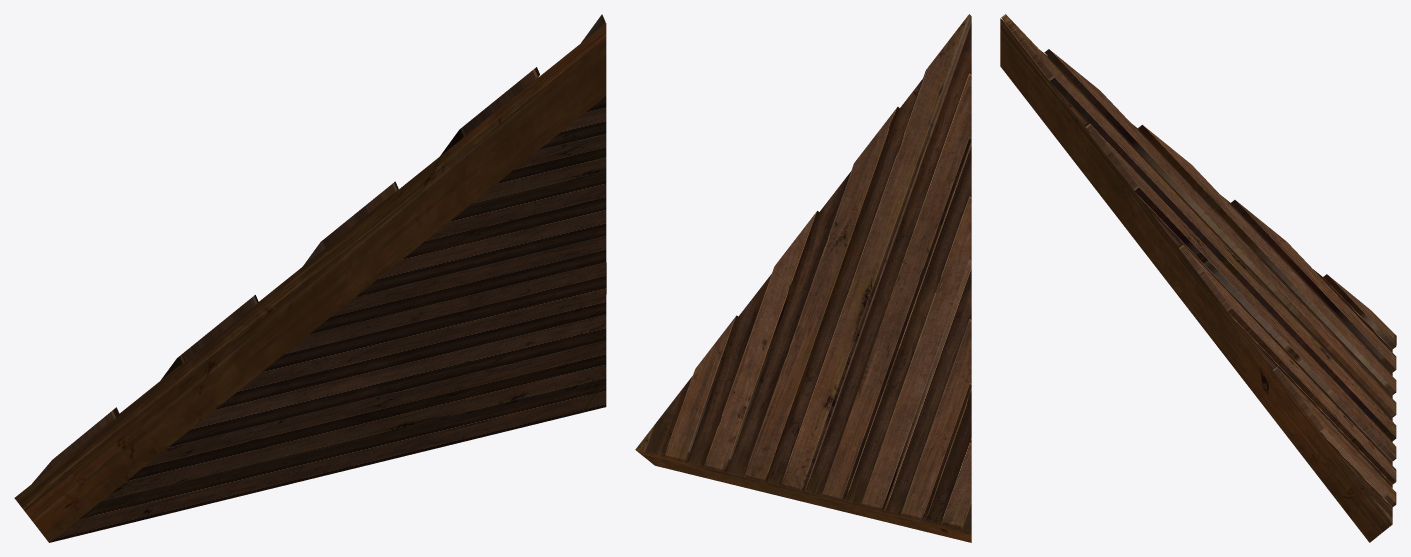
3 views of the same model, side by side, from view 1: azimuth 30°, elevation 25°; view 2: azimuth 150°, elevation 25°; view 3: azimuth 270°, elevation 25° (orthographic). The views are drawn at different scales.
Visible parts, largest first — view 1: SM_BB_T2_Roof_Triangle_Large_Inverted_LOD0; view 2: SM_BB_T2_Roof_Triangle_Large_Inverted_LOD0; view 3: SM_BB_T2_Roof_Triangle_Large_Inverted_LOD0.
Boxes of the visible parts, left/top/right/bottom form: SM_BB_T2_Roof_Triangle_Large_Inverted_LOD0: left=14, top=14, right=606, bottom=542; SM_BB_T2_Roof_Triangle_Large_Inverted_LOD0: left=635, top=14, right=971, bottom=542; SM_BB_T2_Roof_Triangle_Large_Inverted_LOD0: left=1000, top=14, right=1396, bottom=542.
Bounding box in the file's own units: 3.19 × 3.41 × 2.79.
Materials: 2 (2 with a texture image).
